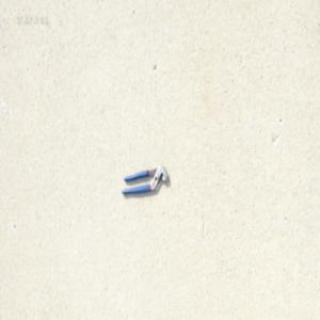Pliertrack_idkeyframe: (120, 163, 168, 196)
